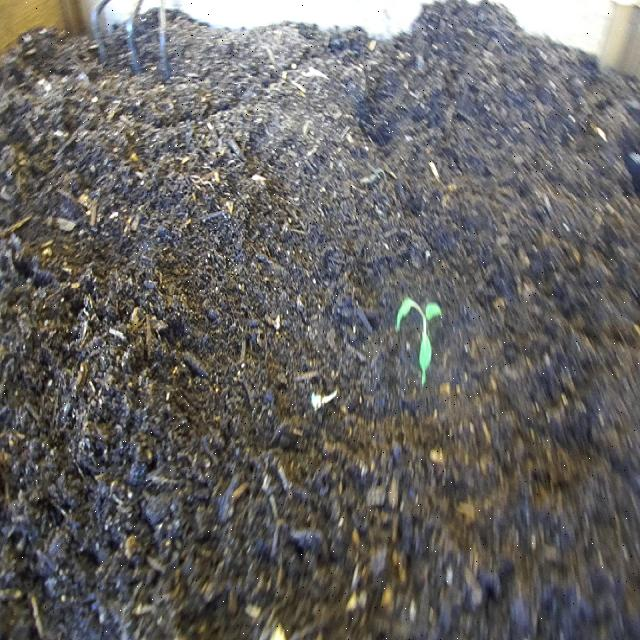Healthy: (387, 281, 447, 395)
